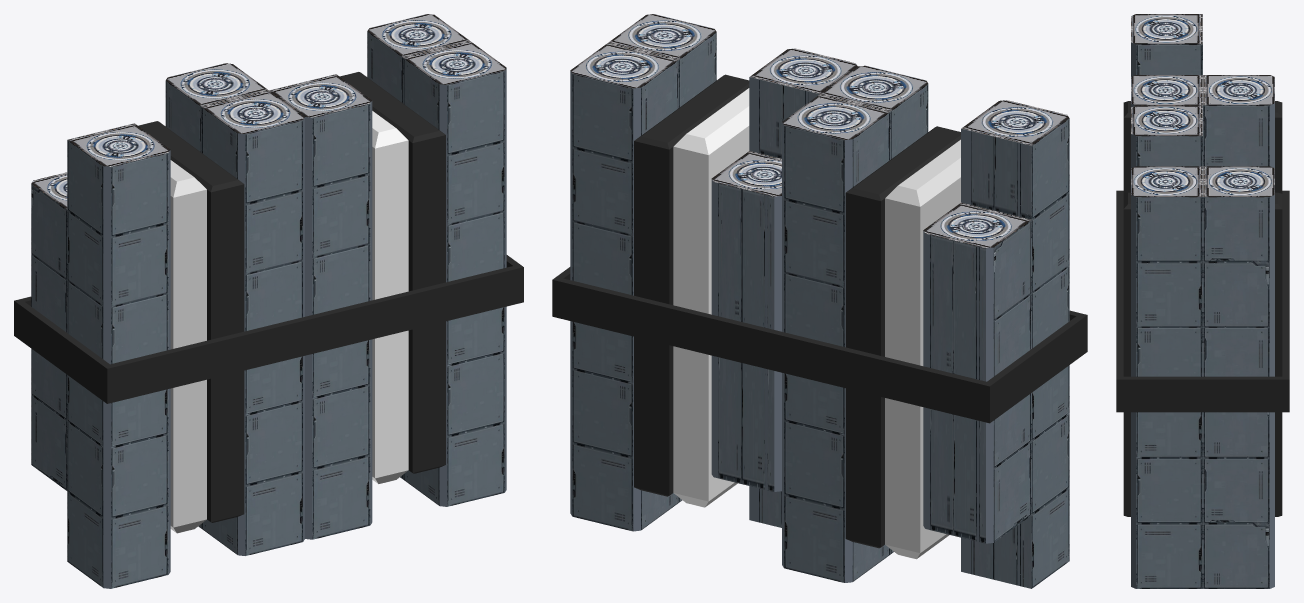
The model's file is Container.fbx.
The picture shows the model from 3 angles, left to right: view 1: azimuth 30°, elevation 25°; view 2: azimuth 150°, elevation 25°; view 3: azimuth 270°, elevation 25°; orthographic projection. The views are drawn at different scales.
Parts seen in each view (by area): view 1: Cube.009, Cube.005, Cube.001, Cube.004, Cube.008, Cube.007, Cube.003, Cube.002, Cube.006; view 2: Cube.009, Cube.005, Cube.001, Cube.004, Cube.008, Cube.006, Cube.002, Cube.007, Cube.003; view 3: Cube.005, Cube.008, Cube.001, Cube.007, Cube.004, Cube.009, Cube.003.
Part boxes in pixels (<box>): Cube.009: <box>31,123,170,588</box>; Cube.005: <box>367,14,506,506</box>; Cube.001: <box>165,63,304,555</box>; Cube.004: <box>269,74,372,539</box>; Cube.008: <box>14,255,523,403</box>; Cube.007: <box>340,72,445,473</box>; Cube.003: <box>138,121,244,522</box>; Cube.002: <box>170,160,206,533</box>; Cube.006: <box>372,111,408,483</box>; Cube.009: <box>923,100,1069,588</box>; Cube.005: <box>570,14,716,531</box>; Cube.001: <box>782,65,928,582</box>; Cube.004: <box>711,48,857,527</box>; Cube.008: <box>552,267,1087,423</box>; Cube.006: <box>673,88,749,507</box>; Cube.002: <box>885,139,960,559</box>; Cube.007: <box>634,74,749,496</box>; Cube.003: <box>845,126,960,548</box>; Cube.005: <box>1131,166,1274,588</box>; Cube.008: <box>1116,190,1289,412</box>; Cube.001: <box>1131,75,1274,168</box>; Cube.007: <box>1123,192,1282,516</box>; Cube.004: <box>1131,105,1202,168</box>; Cube.009: <box>1131,14,1202,76</box>; Cube.003: <box>1123,101,1282,193</box>.
Bounding box in the file's own units: 1240 × 1200 × 480.
